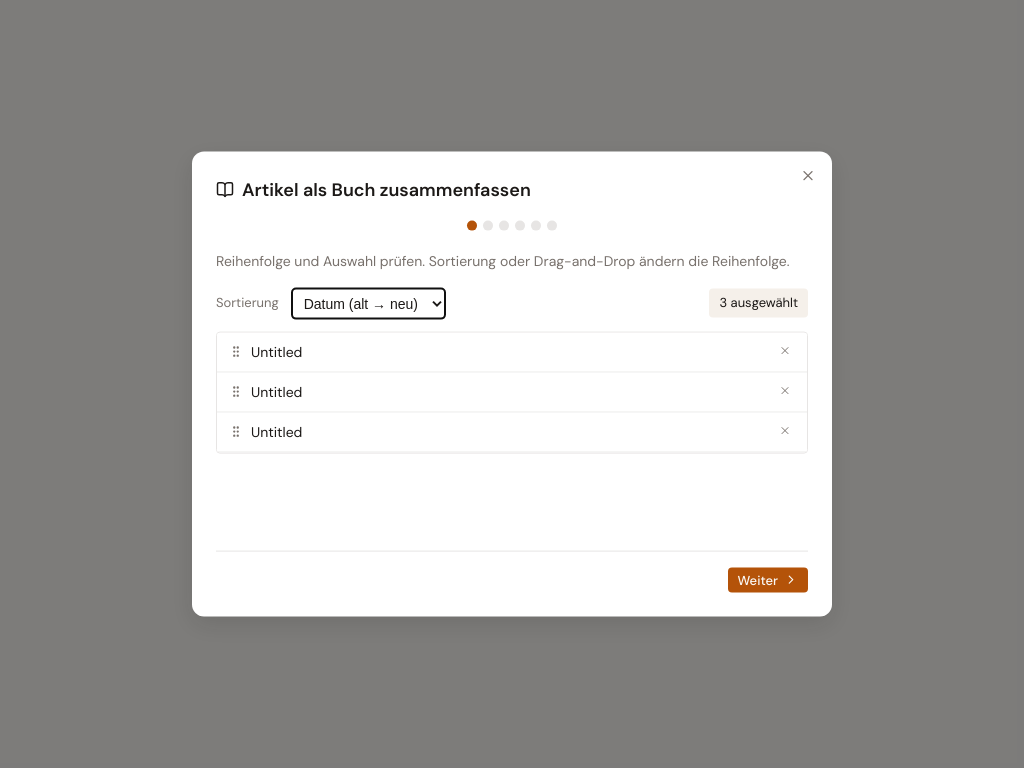
Test case: ConvertToBookWizard author datalist (Bug 8 Phase 2) › pre-fills author when every selected article shares the same author
Click the button with test id "convert-to-book-wizard-step-0-next" at (768, 580), box [728,567,808,592]
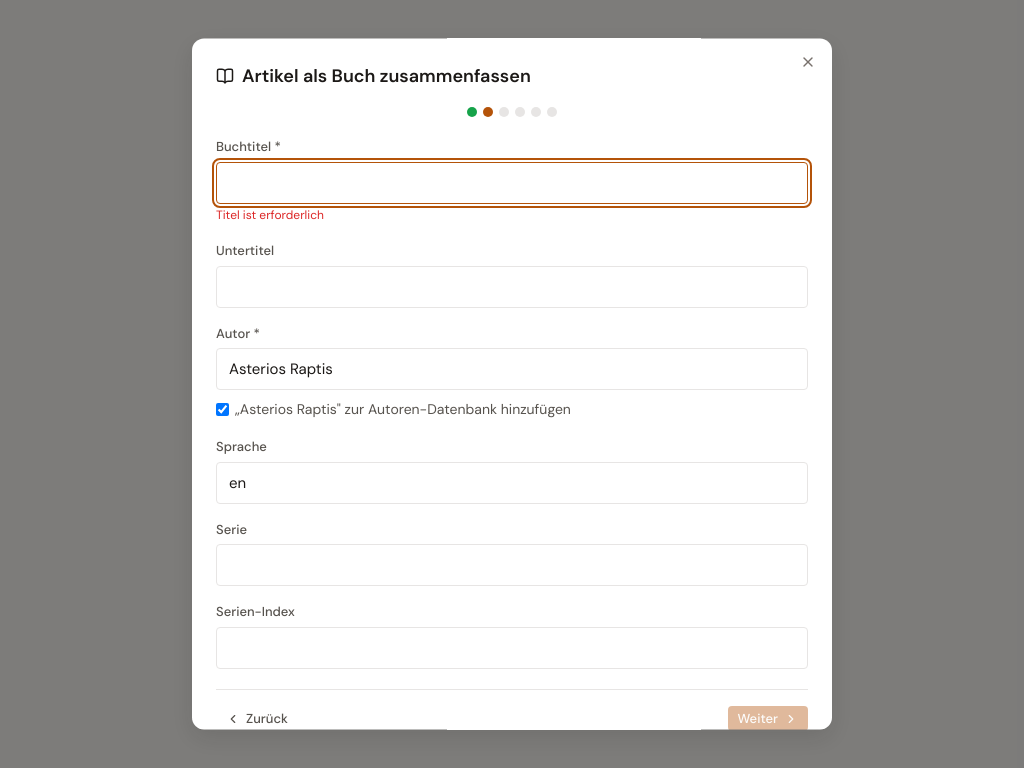
Now the field with test id "convert-to-book-wizard-metadata-author" holds "Asterios Raptis", box [216,349,808,391]
